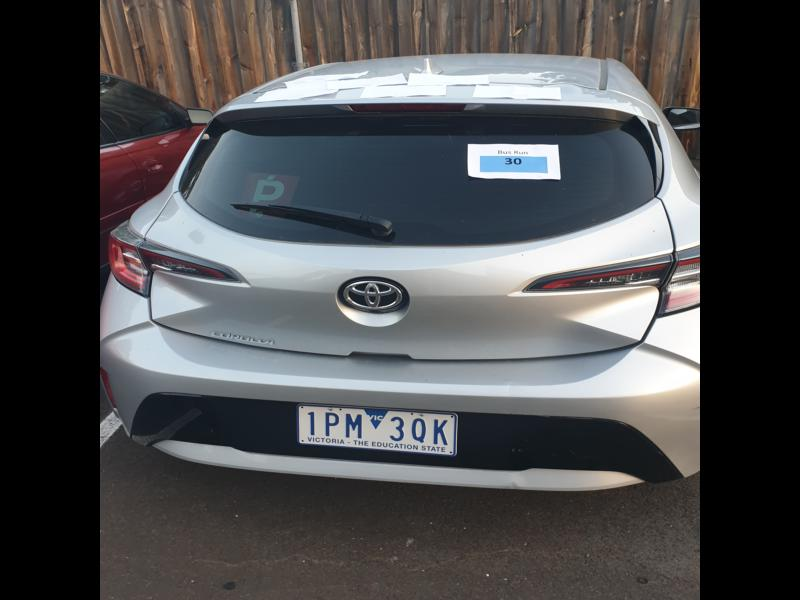BusRun: (480, 156, 551, 174)
PlateNo: (296, 406, 457, 453)
